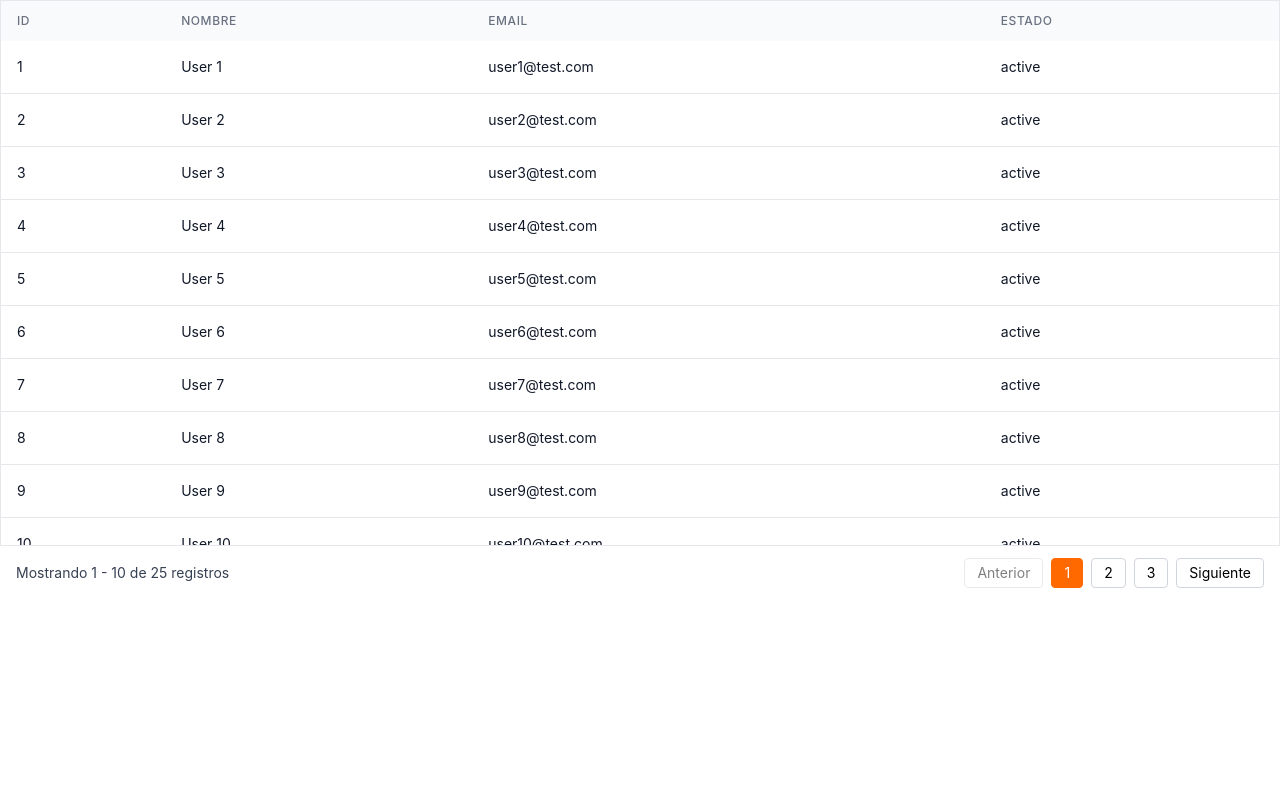
Test: Table Component › navigates between pages
Click the button "Siguiente".
click(1220, 573)  # box [1176, 558, 1264, 588]
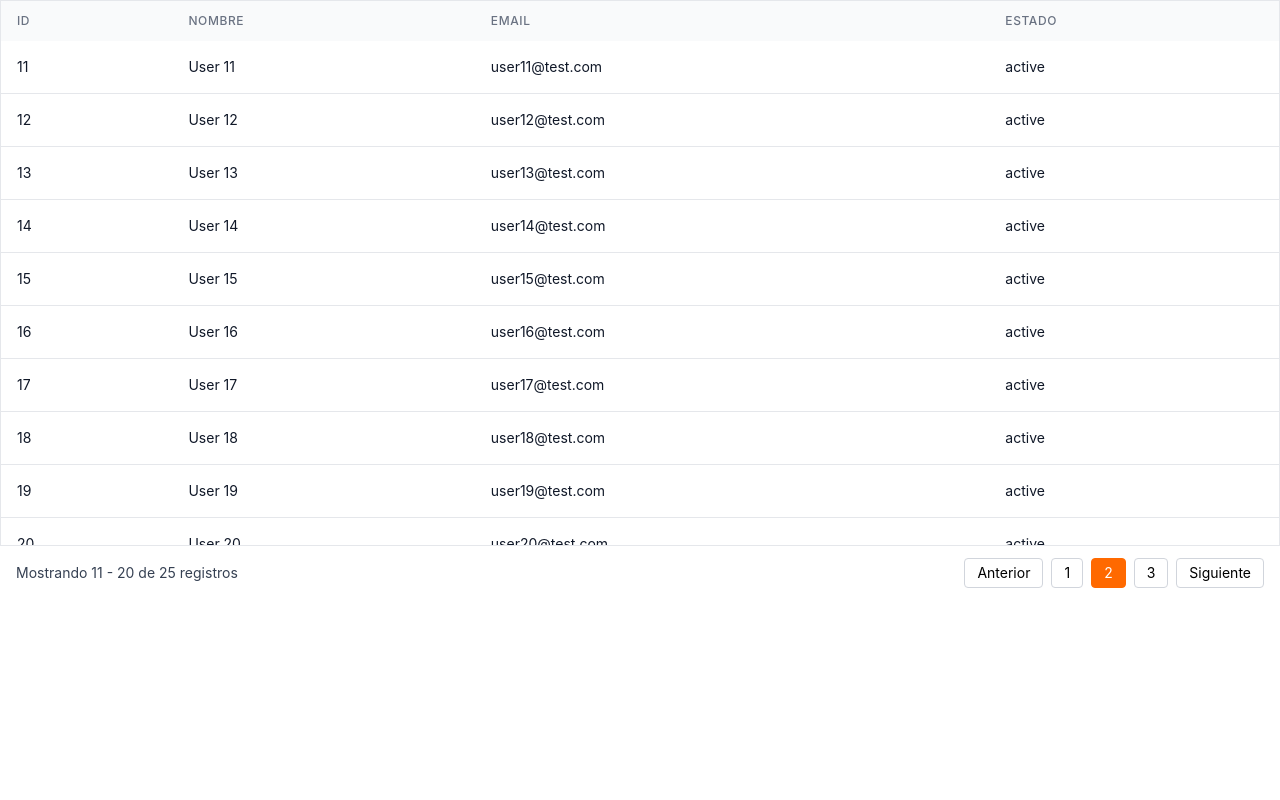
Check: the text "Mostrando 11 - 20 de 25 registros" is shown, box [16, 563, 238, 583]
